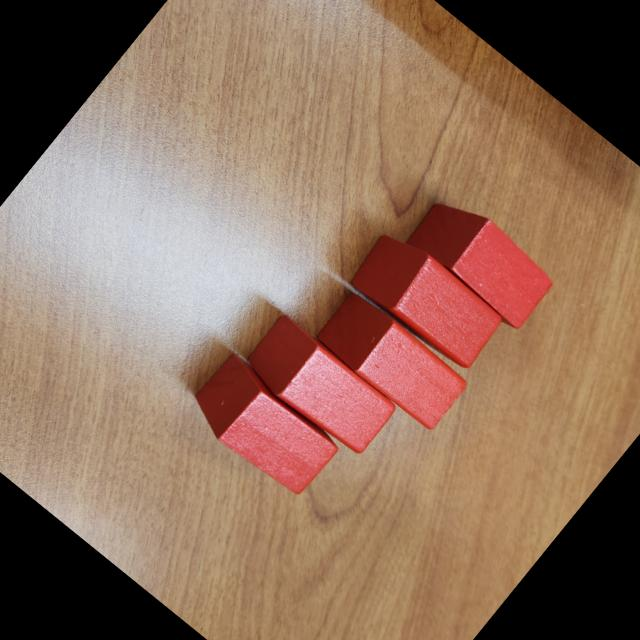red: (343, 222, 511, 378), (398, 180, 565, 336), (179, 349, 344, 504), (313, 287, 474, 436), (239, 313, 400, 462)
